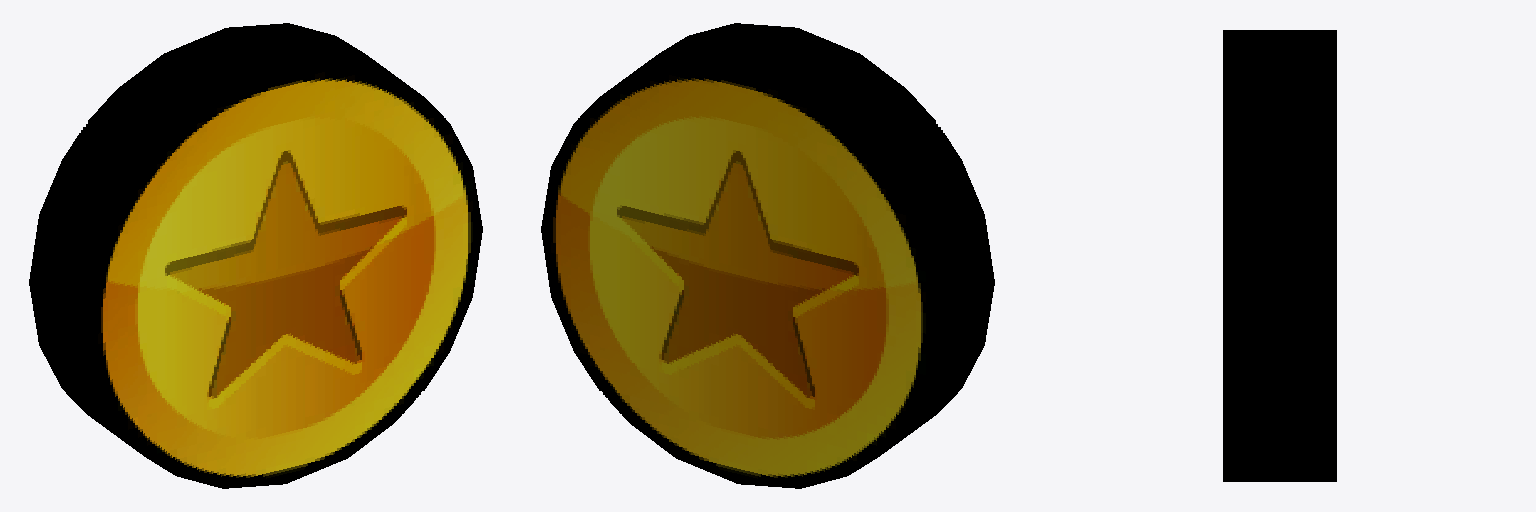
3 views of the same model, side by side, from view 1: azimuth 30°, elevation 25°; view 2: azimuth 150°, elevation 25°; view 3: azimuth 270°, elevation 25° (orthographic).
Visible parts, largest first — view 1: Secret2, Secret1, Secret3; view 2: Secret3, Secret1, Secret2; view 3: Secret1.
Boxes of the visible parts, <box> form: Secret2: <box>88,67,482,488</box>; Secret1: <box>30,24,431,471</box>; Secret3: <box>29,23,361,403</box>; Secret3: <box>541,67,935,488</box>; Secret1: <box>592,24,993,471</box>; Secret2: <box>662,23,994,403</box>; Secret1: <box>1223,30,1336,481</box>.
Bounding box in the file's own units: 4 × 4 × 1.04.
2 materials, 1 textured.